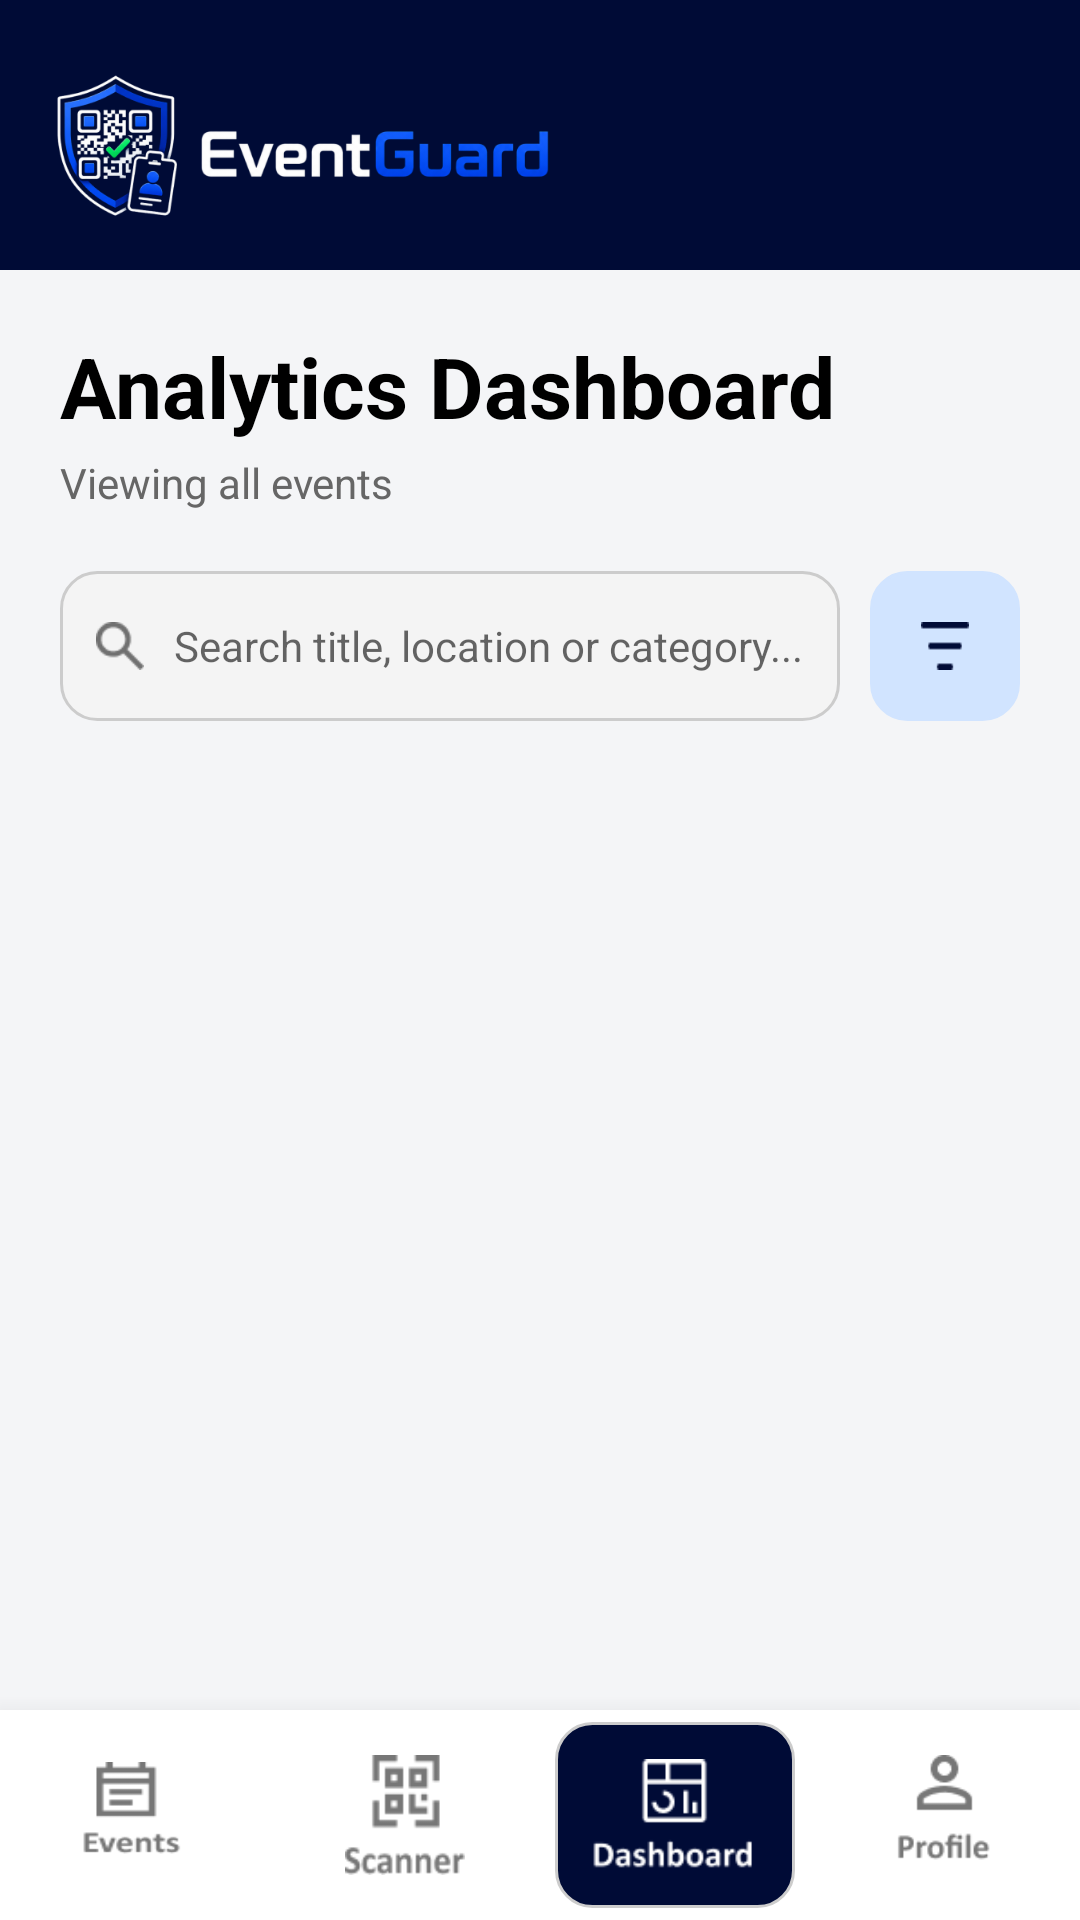

Icon click points for this 1080 × 1920 phone screenshot, format (x=x, y=y):
filter: (x=945, y=646)
